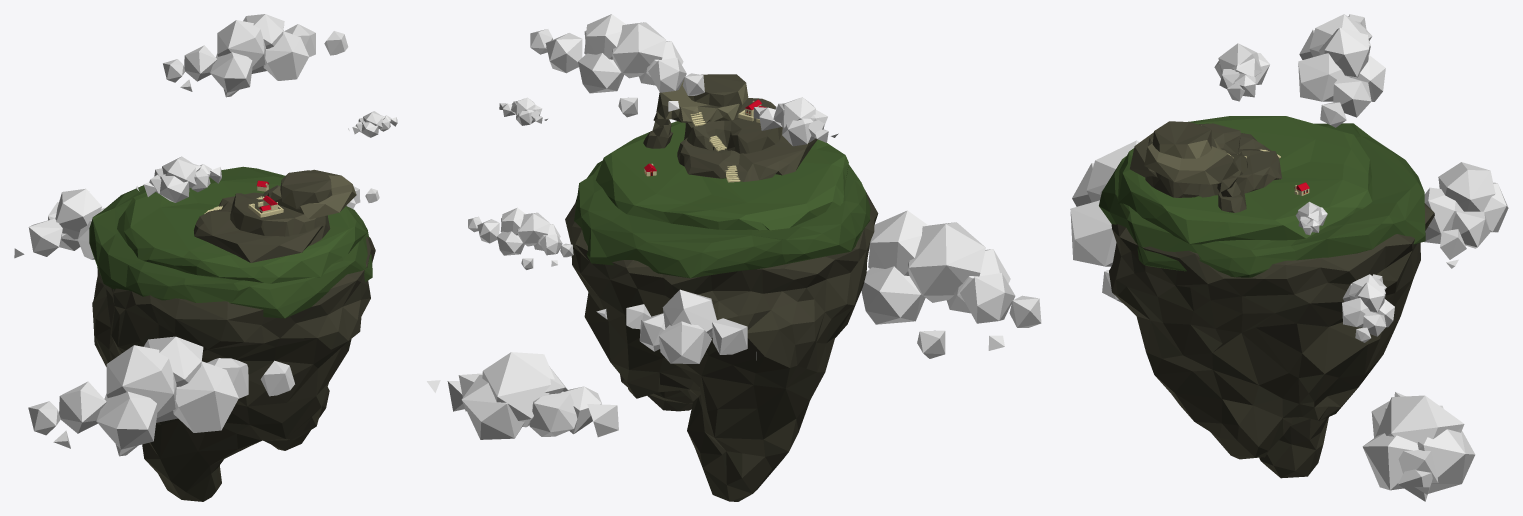
The model's file is Island1.fbx.
The picture shows the model from 3 angles, left to right: view 1: azimuth 30°, elevation 25°; view 2: azimuth 150°, elevation 25°; view 3: azimuth 270°, elevation 25°; orthographic projection. The views are drawn at different scales.
Parts seen in each view (by area): view 1: Icosphere, cloud_3, Cube.001, Cube, Cube.005, cloud_1, cloud_6, Cloud_2, cloud_4, house.002; view 2: Icosphere, Cube.001, Cube, cloud_3, Cube.005, cloud_7, cloud_1, cloud_6, cloud_5, Cloud_2, cloud_4; view 3: Icosphere, Cube.001, Cube, Cube.005, cloud_7, cloud_1, cloud_6, cloud_3, cloud_5, Cloud_2, cloud_4.
Boxes of the visible parts, bbox=[...] form: Icosphere: bbox=[92, 237, 375, 501]; cloud_3: bbox=[28, 336, 294, 456]; Cube.001: bbox=[117, 175, 366, 283]; Cube: bbox=[89, 166, 372, 318]; Cube.005: bbox=[194, 169, 356, 262]; cloud_1: bbox=[163, 14, 348, 97]; cloud_6: bbox=[14, 188, 105, 259]; Cloud_2: bbox=[136, 156, 221, 202]; cloud_4: bbox=[348, 111, 397, 137]; house.002: bbox=[248, 195, 283, 217]; Icosphere: bbox=[565, 189, 878, 501]; Cube.001: bbox=[596, 121, 848, 230]; Cube: bbox=[574, 160, 870, 278]; cloud_3: bbox=[861, 210, 1041, 358]; Cube.005: bbox=[643, 74, 817, 181]; cloud_7: bbox=[427, 352, 618, 439]; cloud_1: bbox=[530, 14, 704, 117]; cloud_6: bbox=[596, 289, 756, 363]; cloud_5: bbox=[468, 207, 573, 269]; Cloud_2: bbox=[753, 97, 838, 146]; cloud_4: bbox=[499, 97, 547, 125]; Icosphere: bbox=[1109, 203, 1434, 478]; Cube.001: bbox=[1118, 116, 1372, 244]; Cube: bbox=[1099, 123, 1425, 277]; Cube.005: bbox=[1130, 121, 1282, 212]; cloud_7: bbox=[1362, 392, 1475, 501]; cloud_1: bbox=[1298, 14, 1385, 127]; cloud_6: bbox=[1424, 162, 1508, 268]; cloud_3: bbox=[1070, 140, 1139, 303]; cloud_5: bbox=[1342, 274, 1394, 342]; Cloud_2: bbox=[1214, 43, 1269, 101]; cloud_4: bbox=[1295, 201, 1327, 235].
Bounding box in the file's own units: 3768 × 3572 × 2849.
